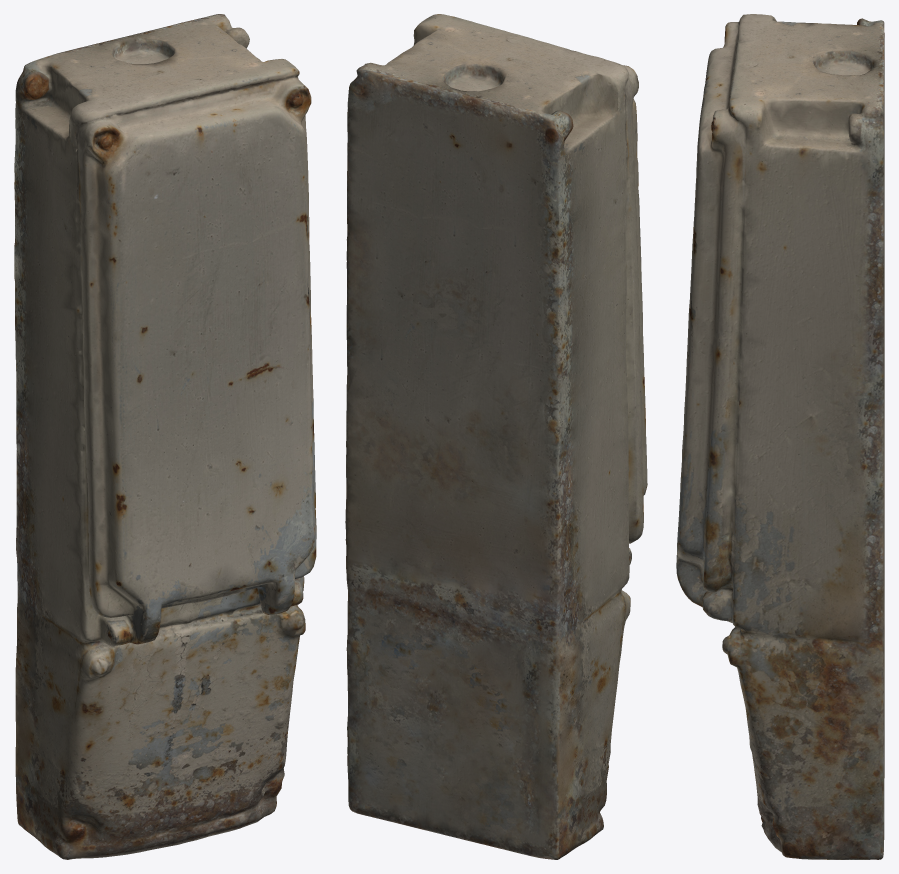
The model's file is electric_box_41.glb.
3 renders of one model, left to right at view 1: azimuth 30°, elevation 25°; view 2: azimuth 150°, elevation 25°; view 3: azimuth 270°, elevation 25°, orthographic. The views are drawn at different scales.
Visible parts, largest first — view 1: Aset_street__M_uiohcfnfa_LOD0; view 2: Aset_street__M_uiohcfnfa_LOD0; view 3: Aset_street__M_uiohcfnfa_LOD0.
Part boxes in pixels (box(x1,y1,x2,y2)): Aset_street__M_uiohcfnfa_LOD0: box(14, 14, 316, 859); Aset_street__M_uiohcfnfa_LOD0: box(345, 14, 647, 859); Aset_street__M_uiohcfnfa_LOD0: box(676, 14, 884, 859).
Size of the model in its own units: 0.2 by 0.6549 by 0.1645.
Materials: 1 (1 with a texture image).
